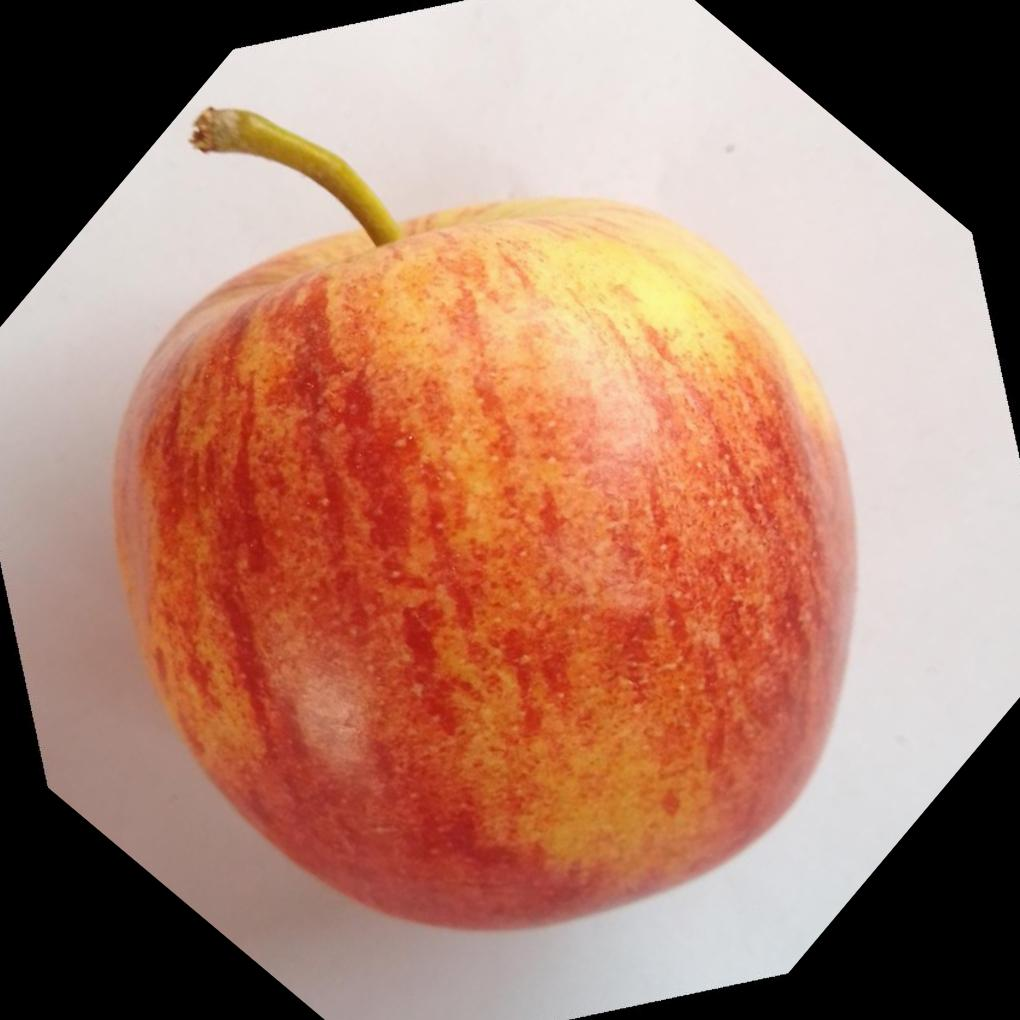FreshGuava: (110, 175, 860, 932)
